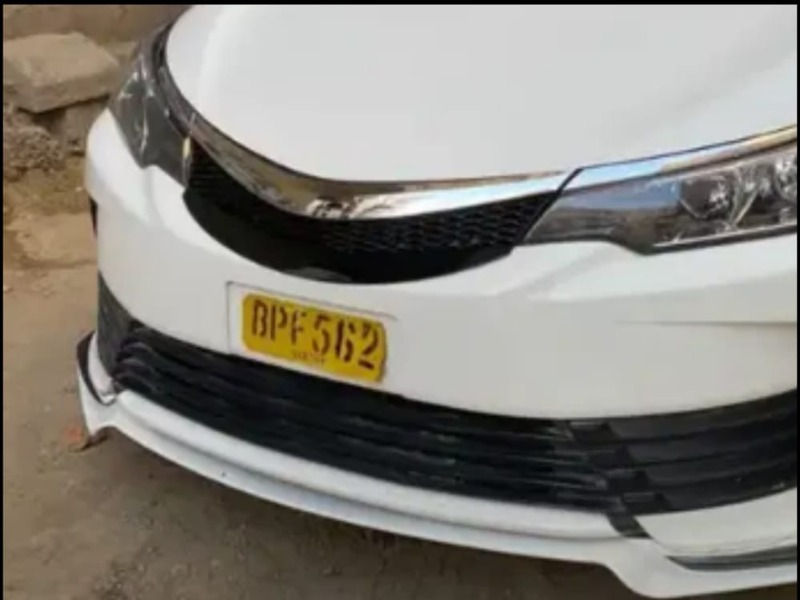License Plate: (236, 292, 390, 385)
